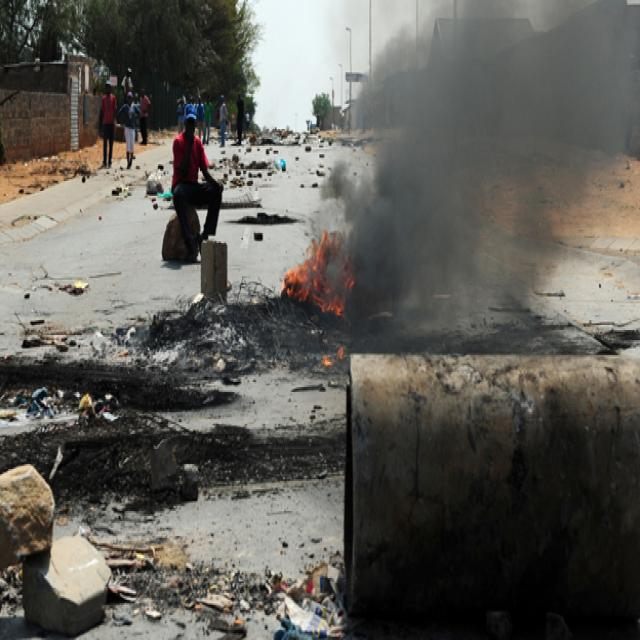smoke: (354, 9, 551, 332), (557, 8, 636, 166)
